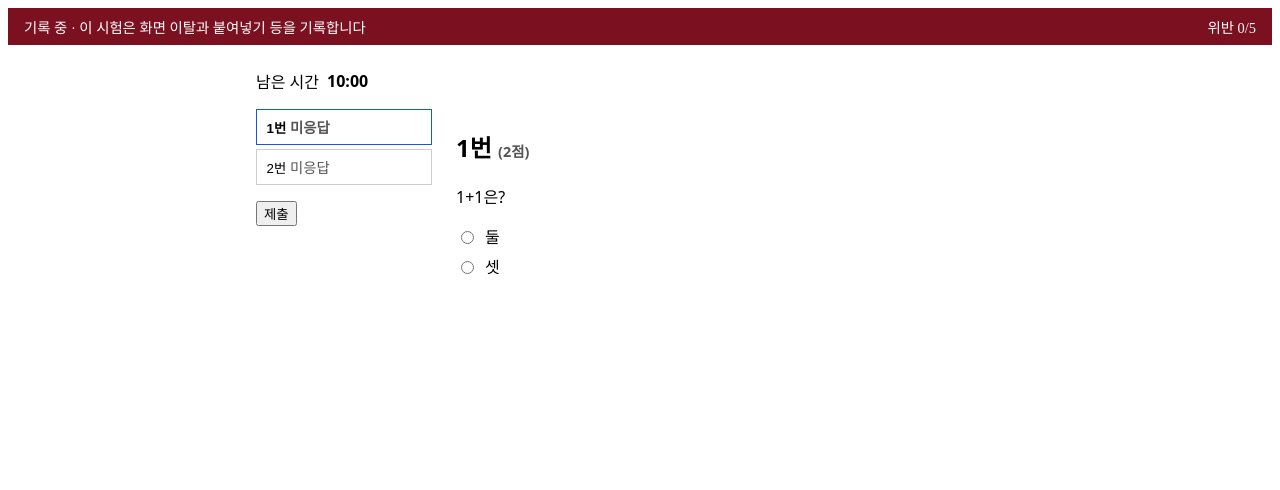
Test: 붙여넣기 차단 안내 › (e) BLOCK 시험에서 붙여넣기를 시도하면 안내가 보인다
Later steps or results of the test are not shown.
Expected: the text "1+1은?" is shown, [456,186,505,208]
Click the button "2번 미응답": [344, 167] box [256,149,432,185]
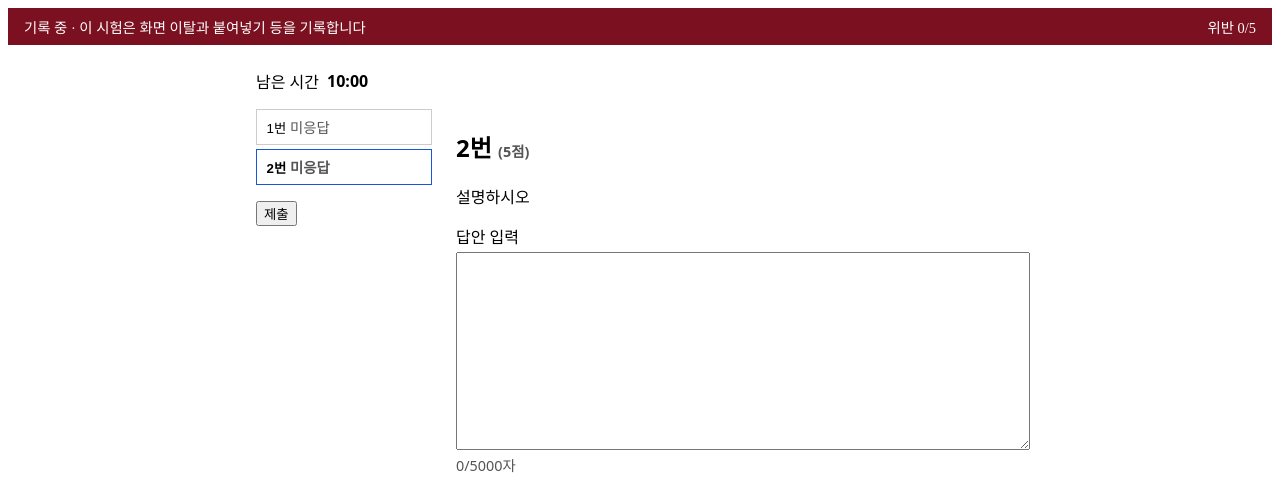
Expected: the text box labelled "답안 입력" is shown, [456,252,1030,450]
